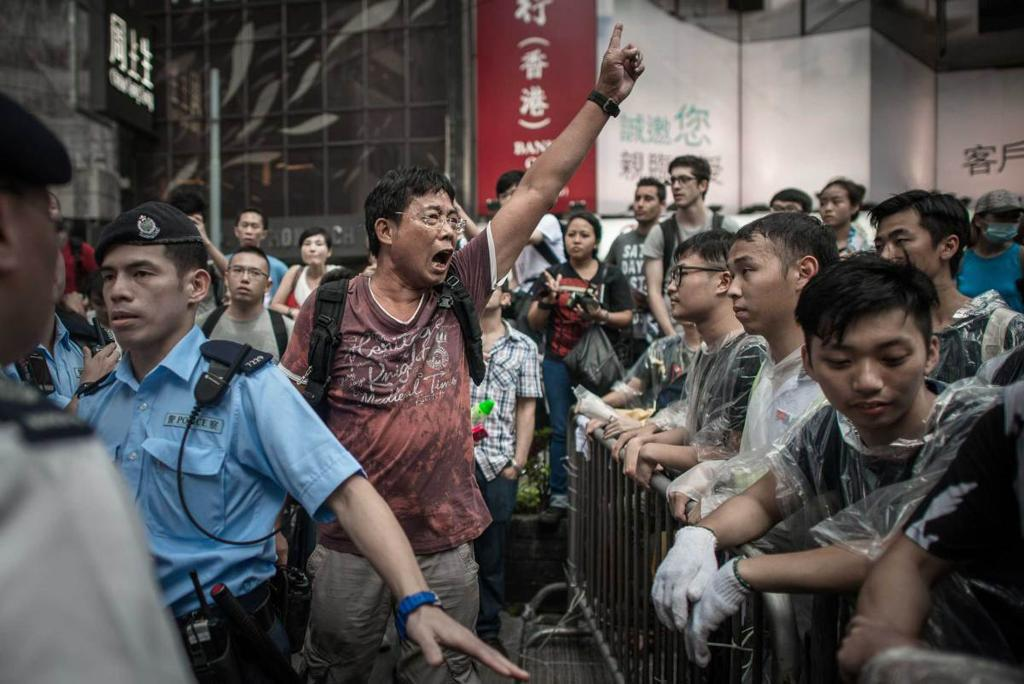face: (809, 317, 927, 428), (1, 183, 60, 351), (101, 244, 188, 347), (727, 248, 799, 332), (393, 200, 459, 284), (873, 222, 940, 287), (670, 259, 721, 318), (229, 260, 268, 302), (983, 204, 1020, 240), (772, 201, 803, 239), (820, 189, 851, 225), (499, 188, 532, 221), (670, 170, 700, 206), (566, 223, 595, 258), (634, 189, 660, 220), (238, 216, 263, 247), (302, 236, 328, 264)
